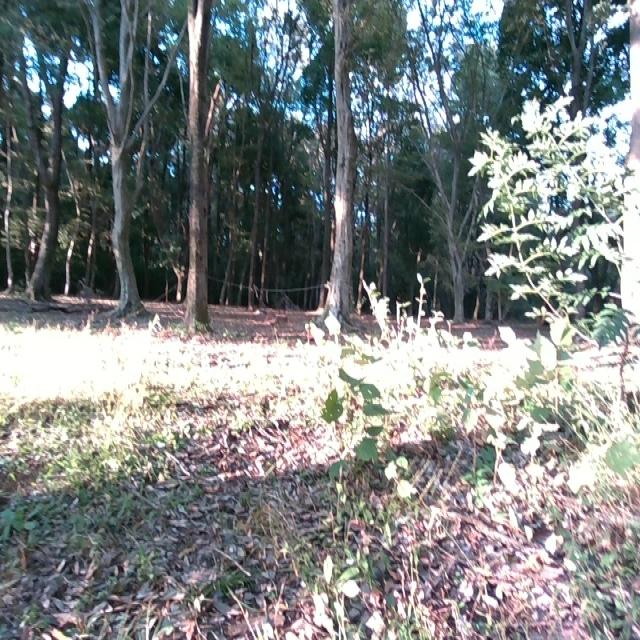bush: (473, 83, 640, 440), (321, 284, 542, 448)
tree: (97, 0, 141, 326), (321, 0, 361, 328), (181, 0, 215, 341), (29, 19, 56, 297)
